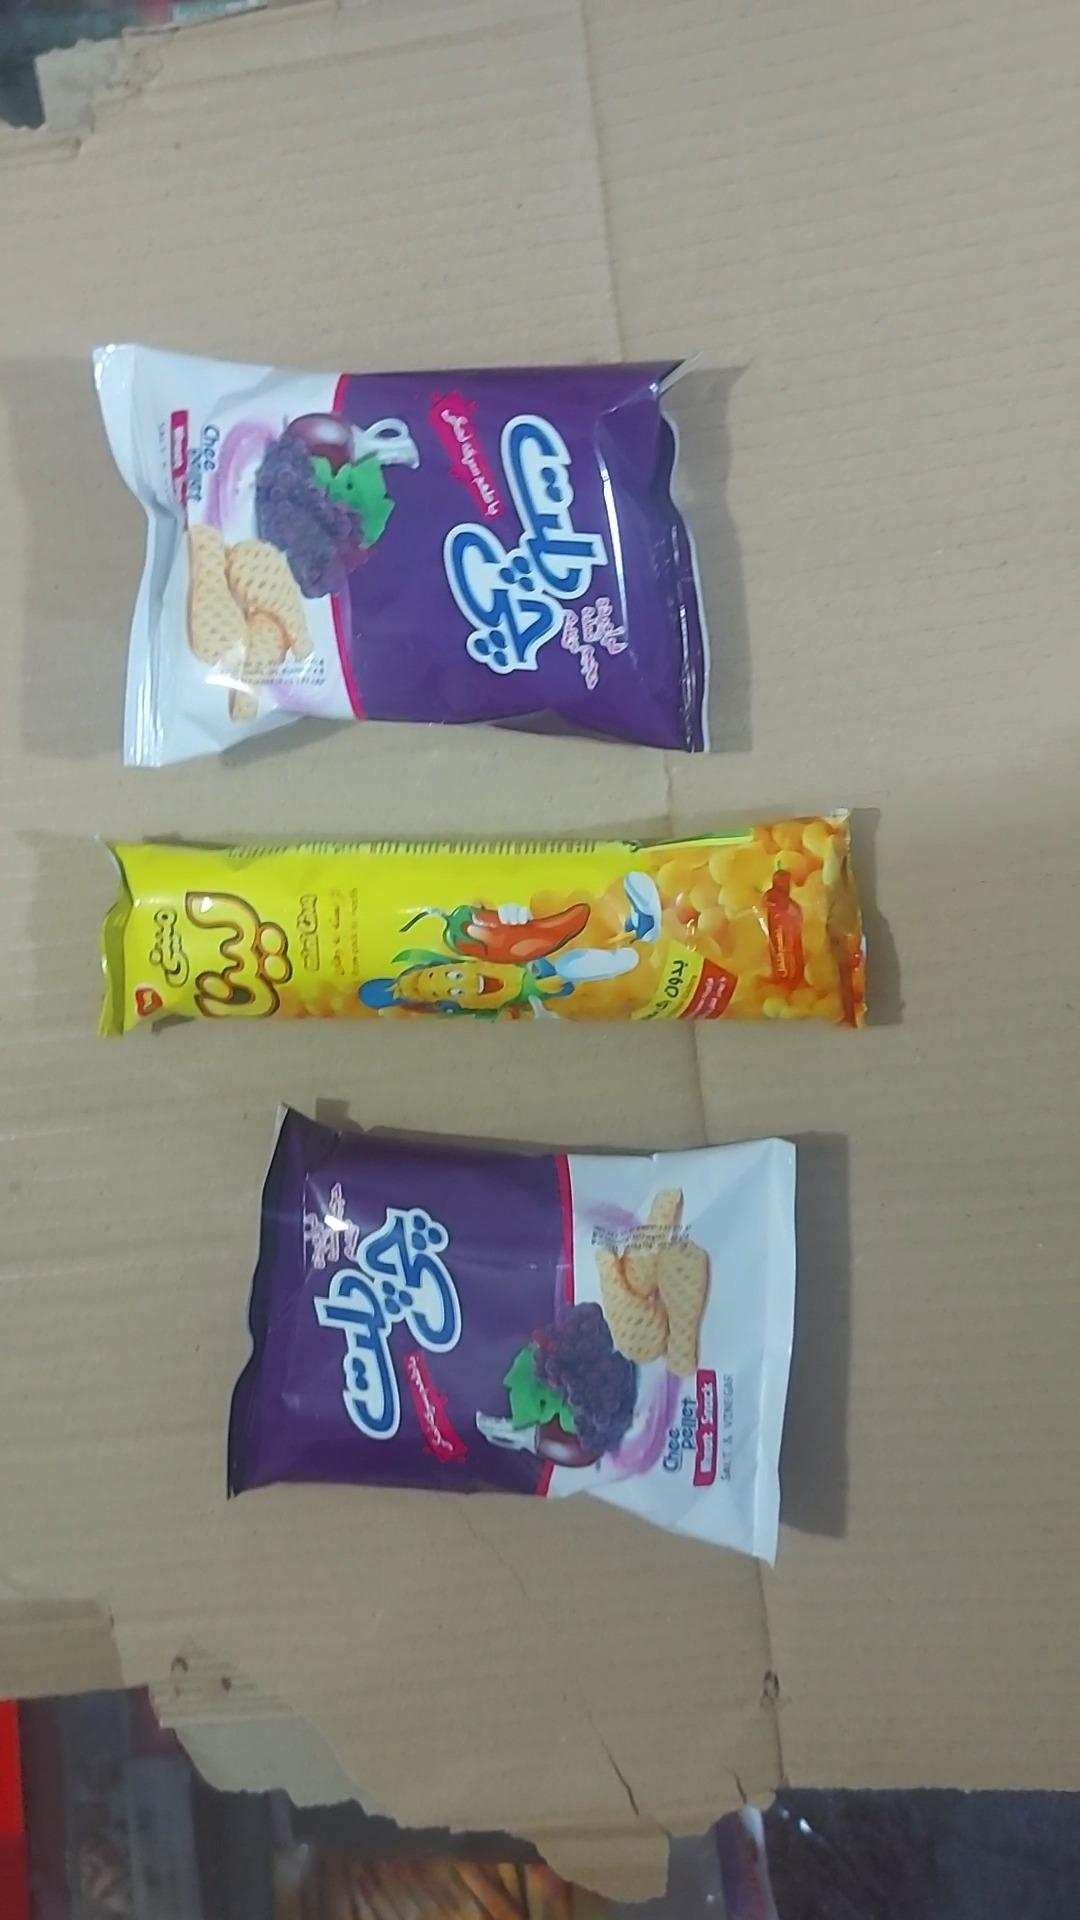Chee pellet vinegar: (94, 344, 713, 766), (228, 1110, 795, 1563)
Mini Lina: (100, 818, 866, 1034)
